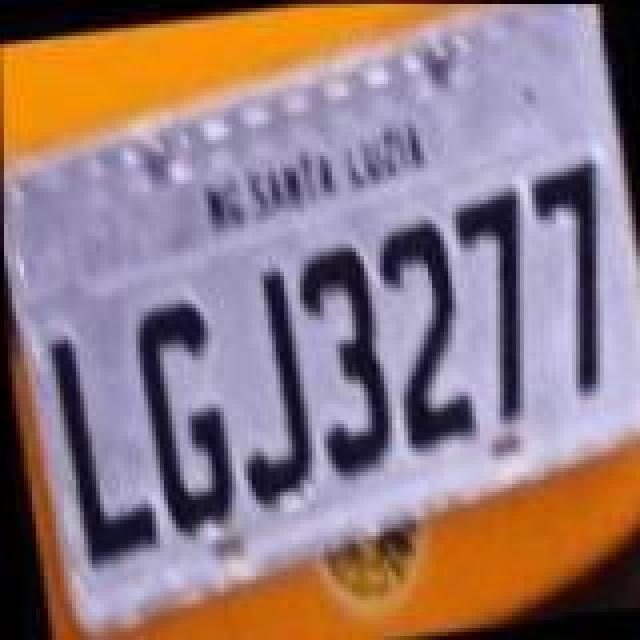2: (364, 212, 476, 456)
3: (284, 238, 400, 486)
7: (446, 184, 554, 432), (524, 152, 632, 400)
G: (126, 290, 242, 538)
J: (208, 258, 316, 510)
L: (42, 322, 162, 574)
